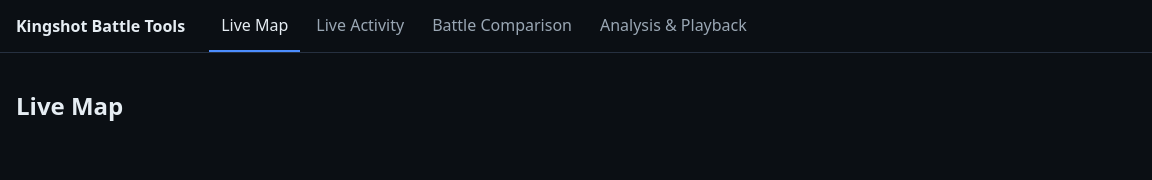
Scenario: app shell › navigates to Battle Comparison
Check: the heading "Live Map" is shown, box [16,89,123,122]
Click the link "Battle Comparison": (502, 25) [432,14,572,36]
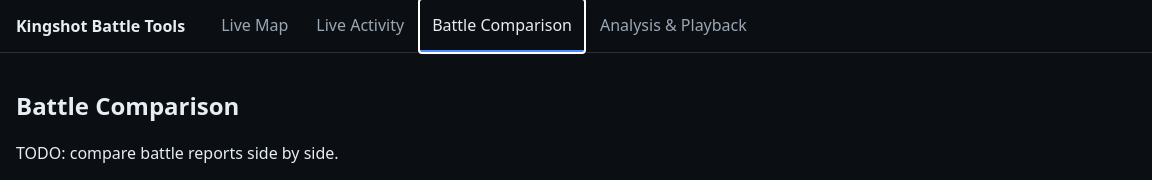
Check: the heading "Battle Comparison" is shown, box [16,89,239,122]
